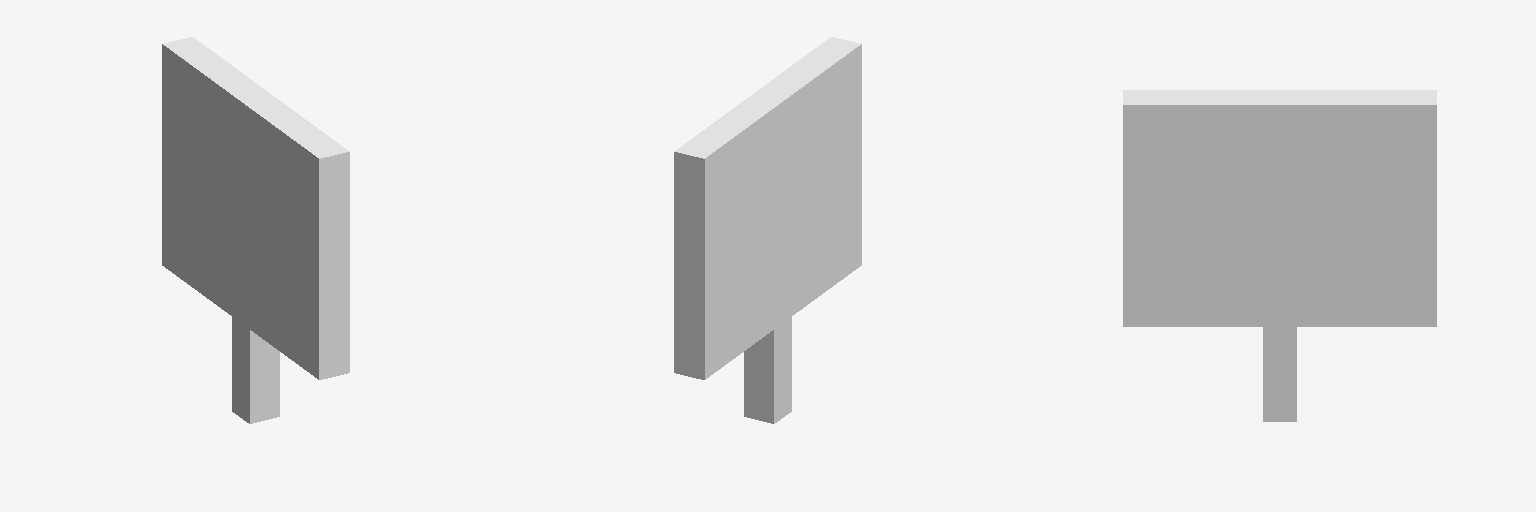
Rendered from ExclamationSign.obj.
3 renders of one model, left to right at view 1: azimuth 30°, elevation 25°; view 2: azimuth 150°, elevation 25°; view 3: azimuth 270°, elevation 25°, orthographic.
Parts seen in each view (by area): view 1: object 1; view 2: object 1; view 3: object 1.
Boxes of the visible parts, box(x1,y1,x2,y2) form: object 1: box(162, 37, 349, 423); object 1: box(674, 37, 861, 423); object 1: box(1123, 90, 1436, 421).
Bounding box in the file's own units: 0.1 × 1 × 0.9.